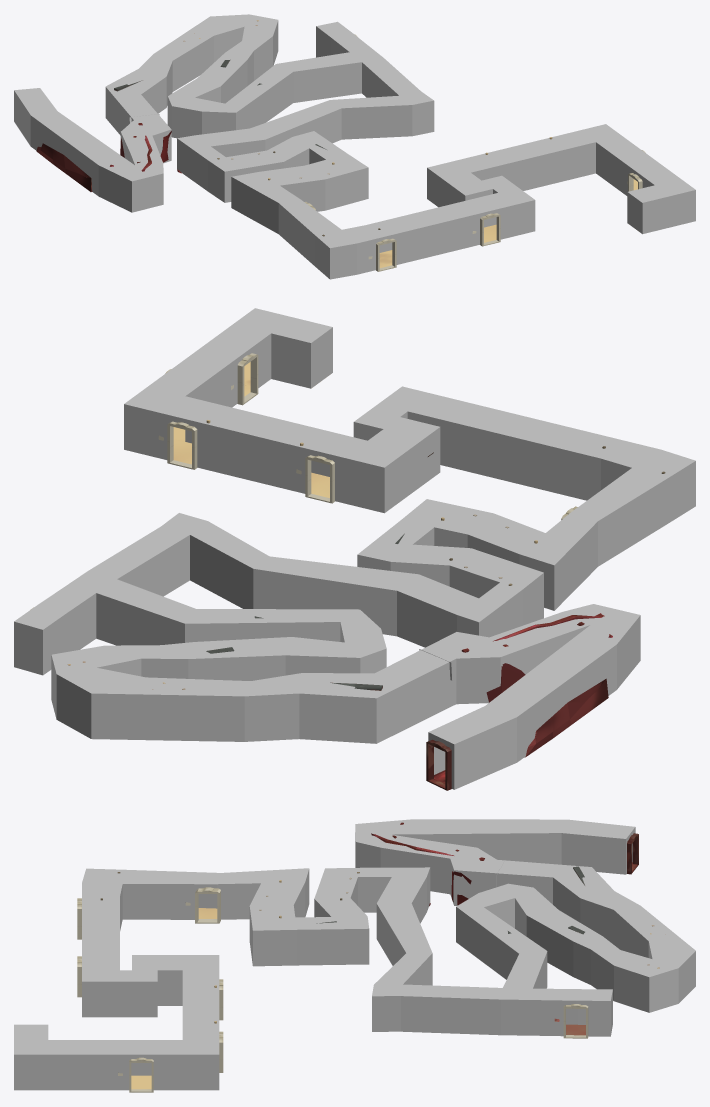
Rendered from Hallway.fbx.
3 views of the same model, one above another, from view 1: azimuth 30°, elevation 25°; view 2: azimuth 150°, elevation 25°; view 3: azimuth 270°, elevation 25° (orthographic). The views are drawn at different scales.
Visible parts, largest first — view 1: Wall, Ceiling, Door, Gore3, Floor; view 2: Wall, Ceiling, Door, Gore3, Floor, Door Meat; view 3: Wall, Ceiling, Door, Floor, Door Meat.
Part boxes in pixels (<box>): Wall: <box>14,21,695,279</box>; Ceiling: <box>14,14,695,248</box>; Door: <box>304,150,645,271</box>; Gore3: <box>36,143,92,191</box>; Floor: <box>379,179,637,267</box>; Wall: <box>14,327,695,789</box>; Ceiling: <box>14,308,695,744</box>; Door: <box>165,353,577,519</box>; Gore3: <box>524,678,608,757</box>; Floor: <box>173,362,445,783</box>; Door Meat: <box>426,739,451,790</box>; Wall: <box>14,827,695,1090</box>; Ceiling: <box>14,819,695,1054</box>; Door: <box>77,887,223,1092</box>; Floor: <box>131,862,632,1089</box>; Door Meat: <box>627,833,638,874</box>.
Bounding box in the file's own units: 4920 × 385 × 5957.
